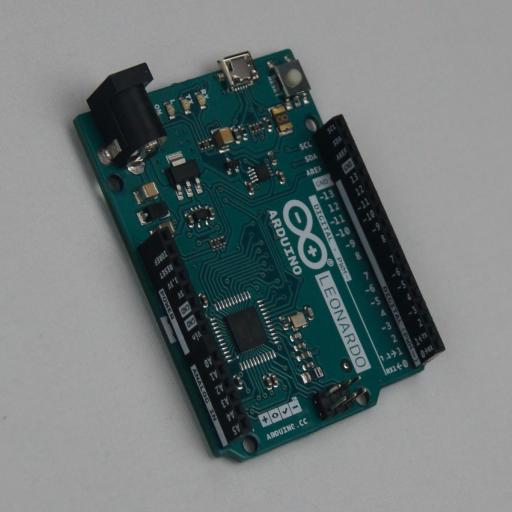ARDUINO_NANO_ATMEGA328P: (69, 49, 445, 463)
